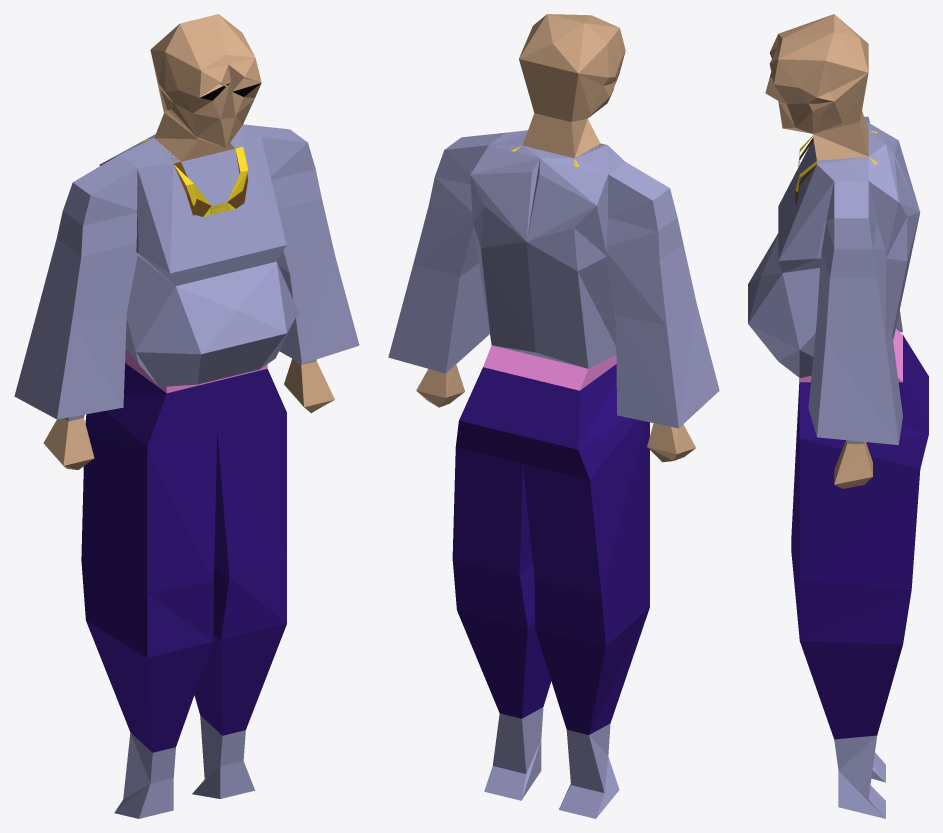
File: amulet-shops.gltf
The picture shows the model from 3 angles, left to right: view 1: azimuth 30°, elevation 25°; view 2: azimuth 150°, elevation 25°; view 3: azimuth 270°, elevation 25°; orthographic projection. The views are drawn at different scales.
Size of the model in its own units: 78 by 197 by 42.
Materials: 1 (1 with a texture image).
